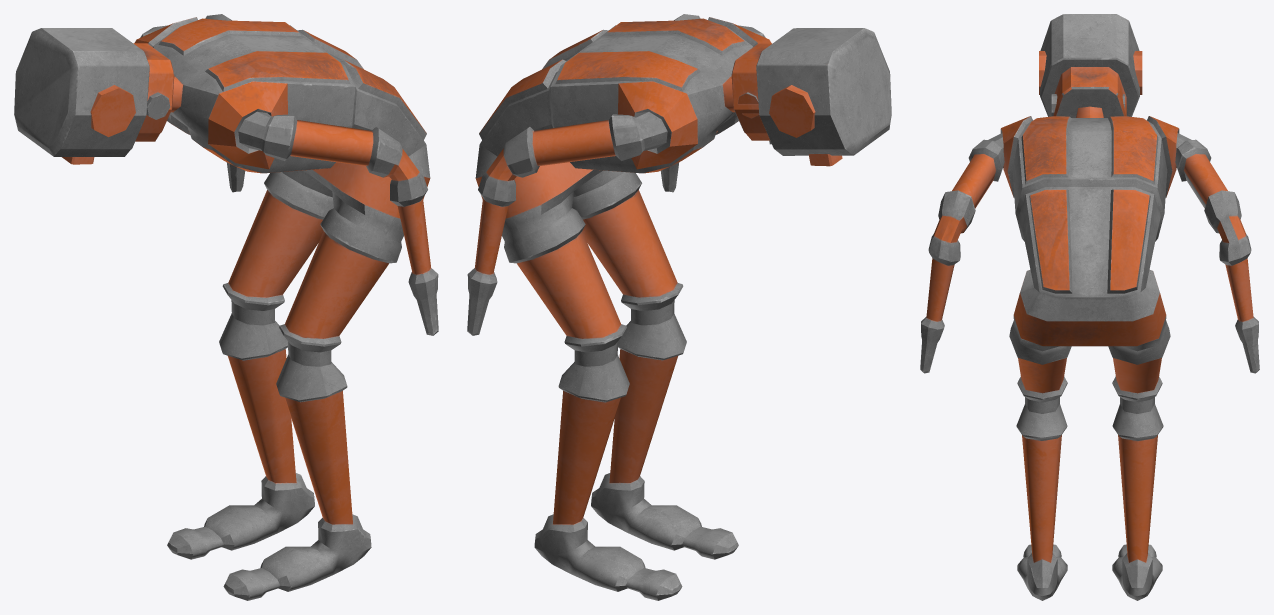
File: SM_Robot2.fbx
3 renders of one model, left to right at view 1: azimuth 30°, elevation 25°; view 2: azimuth 150°, elevation 25°; view 3: azimuth 270°, elevation 25°, orthographic. The views are drawn at different scales.
Parts seen in each view (by area): view 1: SM_Robot2; view 2: SM_Robot2; view 3: SM_Robot2.
Part boxes in pixels (<box>): SM_Robot2: <box>14,14,438,600</box>; SM_Robot2: <box>467,14,891,600</box>; SM_Robot2: <box>920,14,1259,600</box>.
Bounding box in the file's own units: 65.91 × 62.26 × 97.8.
1 material, 1 textured.
